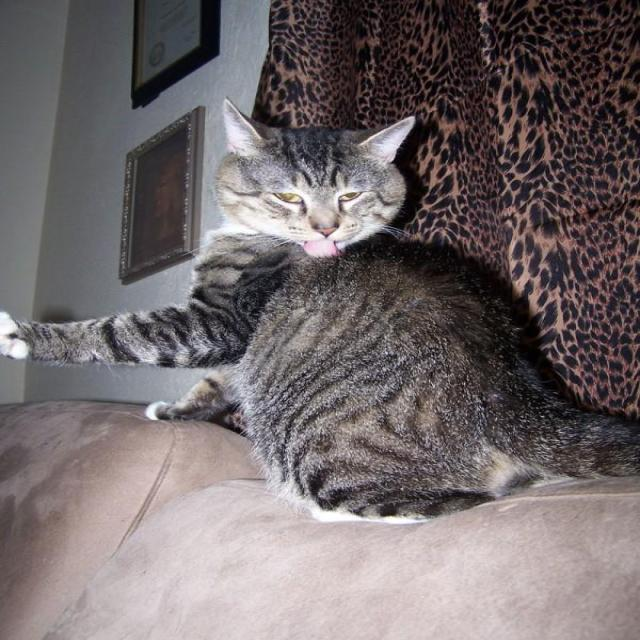Egyptian_Mau: (214, 98, 416, 271)
